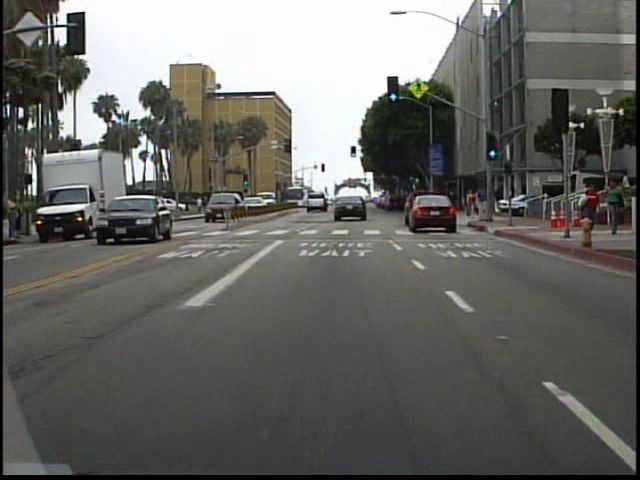person: (8, 193, 25, 239), (463, 187, 479, 221), (476, 184, 490, 220), (492, 183, 506, 217)
